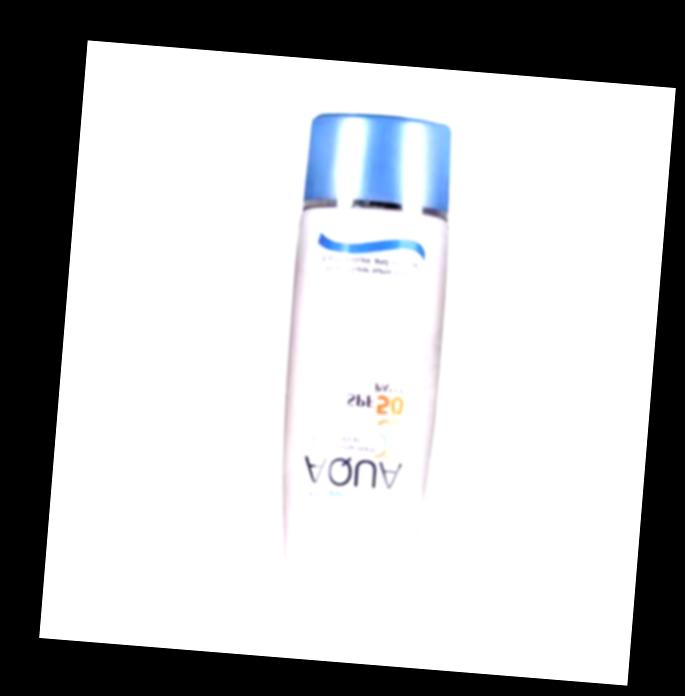cosmetic: (268, 110, 461, 615)
